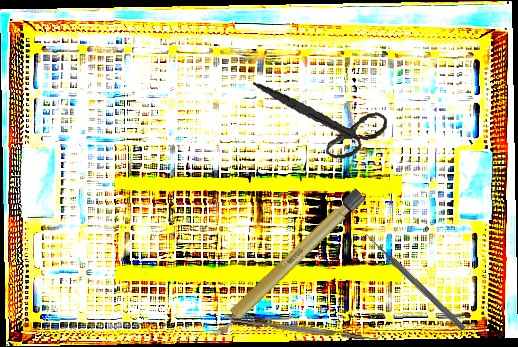Chopper: (230, 310, 387, 345)
Iris Scissors: (253, 66, 391, 169)
Pusher: (362, 231, 468, 332)
Scalpel Handle: (208, 187, 367, 341)
